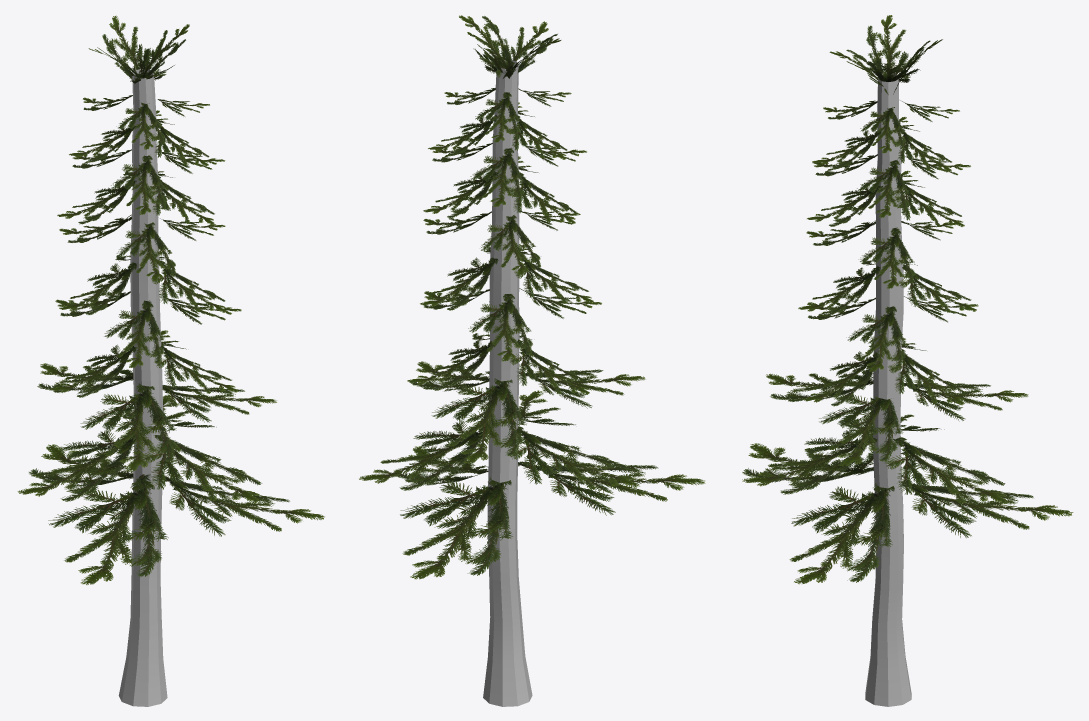
File: Tree New.fbx
The picture shows the model from 3 angles, left to right: view 1: azimuth 30°, elevation 25°; view 2: azimuth 150°, elevation 25°; view 3: azimuth 270°, elevation 25°; orthographic projection. The views are drawn at different scales.
Parts seen in each view (by area): view 1: Tree; view 2: Tree; view 3: Tree.
Part boxes in pixels (box(x1,y1,x2,y2)): Tree: box(17, 15, 324, 706); Tree: box(359, 15, 705, 706); Tree: box(742, 15, 1073, 706).
Size of the model in its own units: 100 by 236 by 110.
